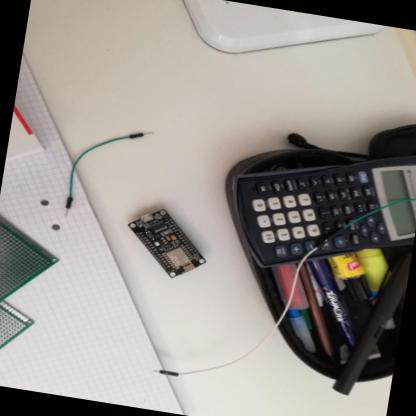ESP8266: (115, 200, 218, 286)
